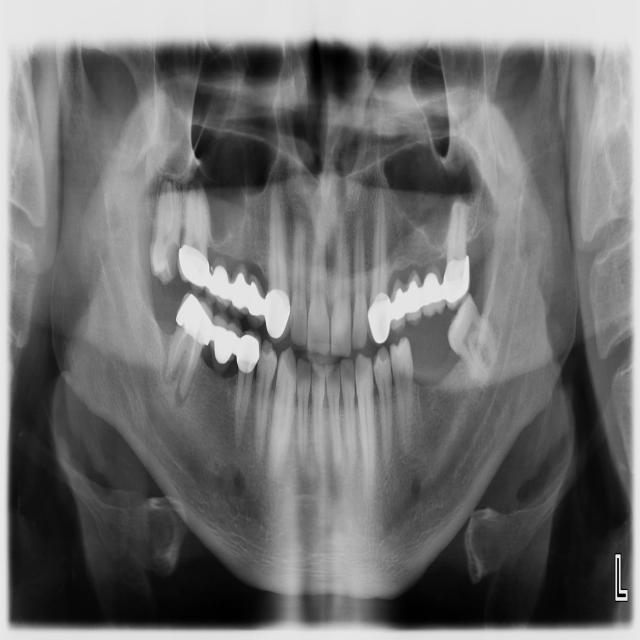mandibula: (49, 39, 581, 596)
